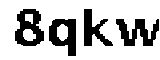8: (11, 7, 46, 51)
k: (80, 4, 115, 51)
q: (46, 15, 78, 60)
w: (114, 13, 160, 50)
